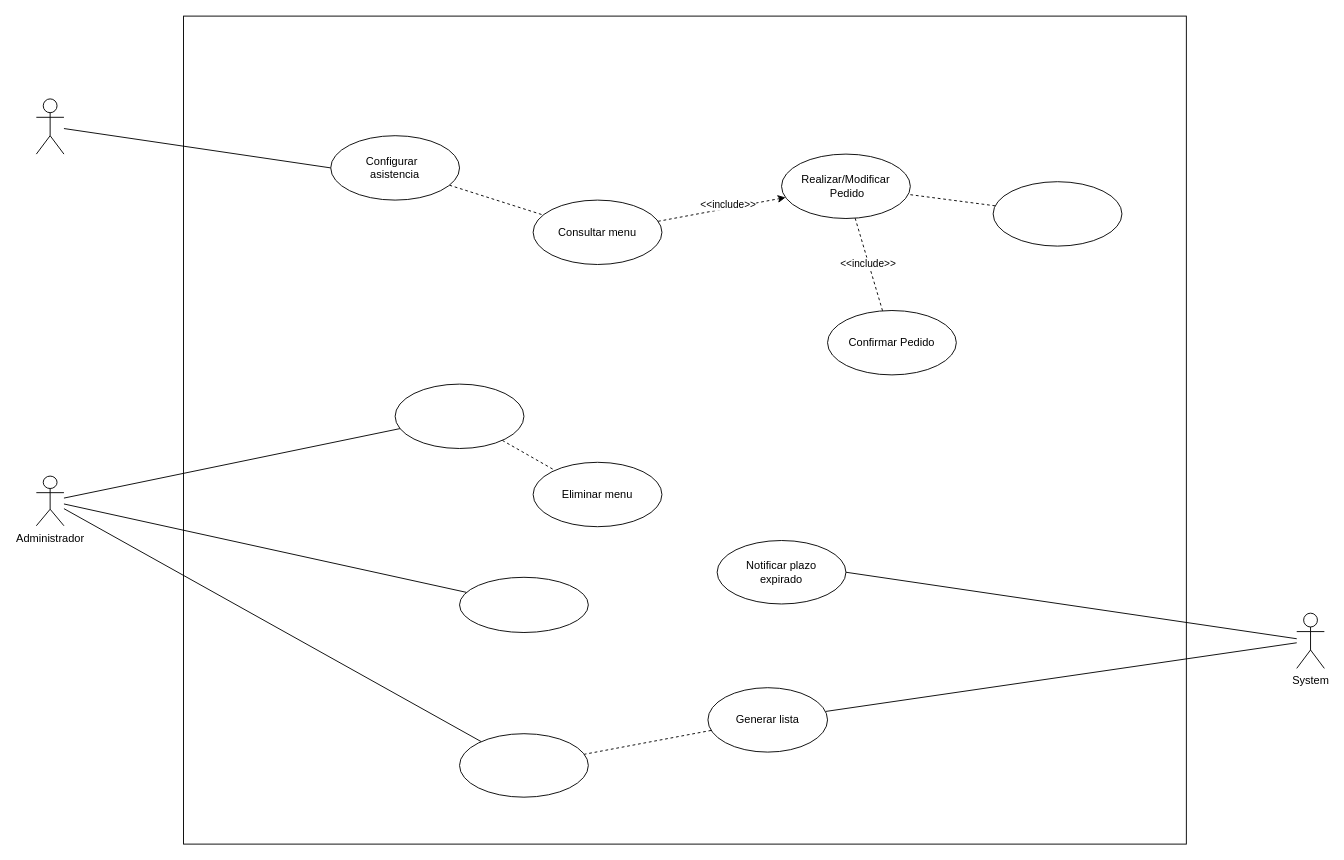
This 1344x860 diagram has some shape labels left out. Here are the shapes that lost their labels. From the top down, the box of each, then its label:
(35, 98, 64, 154): Empleado
(992, 181, 1122, 246): Cancelar Pedido
(394, 383, 524, 448): Modificar/Realizar Menu
(459, 576, 588, 632): Gestionar Feriados
(459, 733, 588, 797): Vizualizar Pedidos
